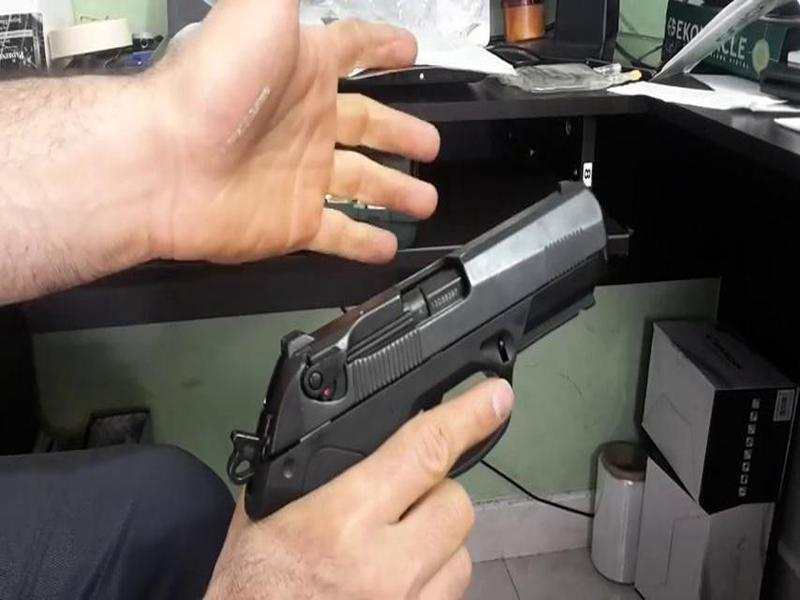Pistola: (217, 164, 613, 508)
